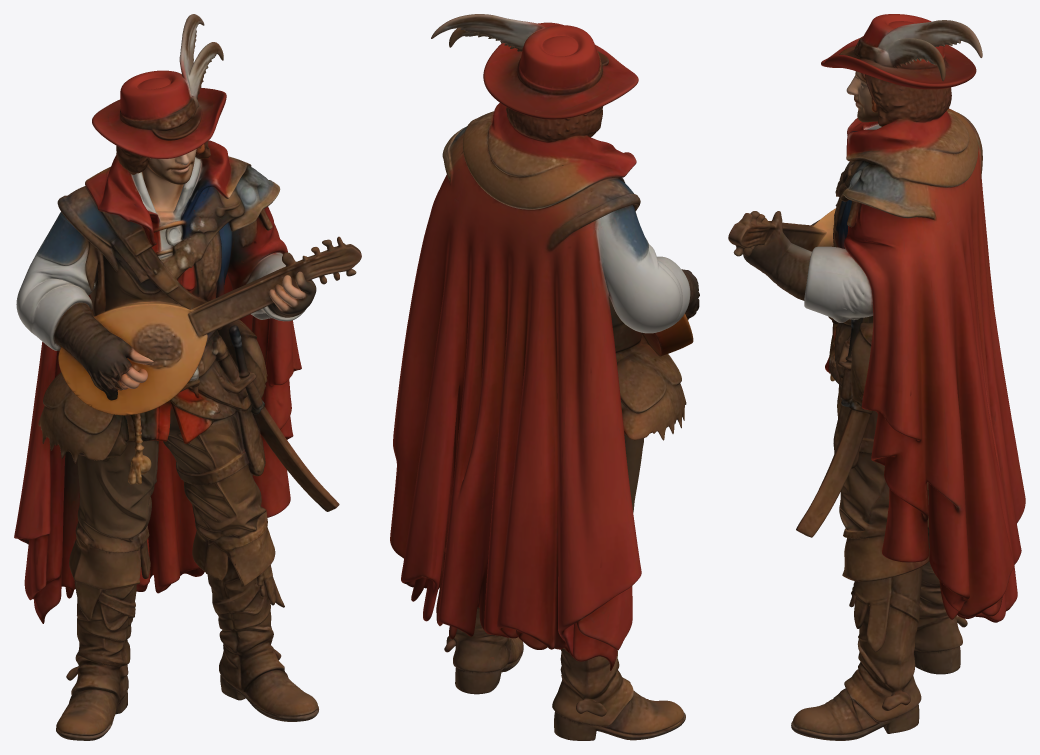
File: bard_full_male_01.glb
3 renders of one model, left to right at view 1: azimuth 30°, elevation 25°; view 2: azimuth 150°, elevation 25°; view 3: azimuth 270°, elevation 25°, orthographic. The views are drawn at different scales.
Parts seen in each view (by area): view 1: material; view 2: material; view 3: material.
Boxes of the visible parts, bbox=[...] form: material: bbox=[14, 14, 361, 740]; material: bbox=[390, 14, 699, 740]; material: bbox=[728, 14, 1025, 740].
Size of the model in its own units: 0.4825 by 1.14 by 0.4425.
Materials: 1 (1 with a texture image).
